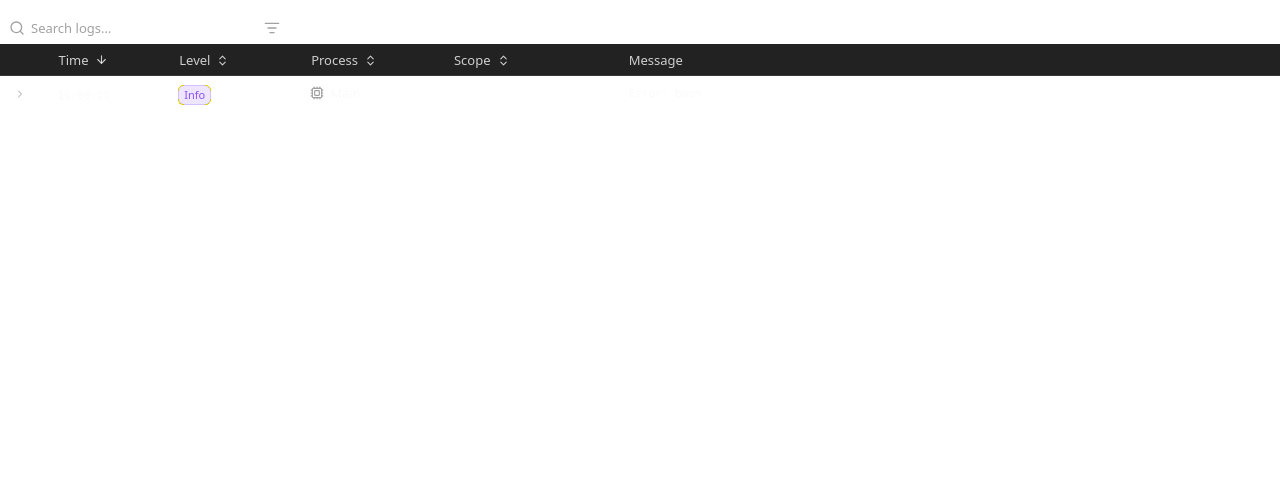
it: logs › a line opens under its row with its stack
Click the button named "Show details: Error: boom": (20, 94) [8,82,32,106]
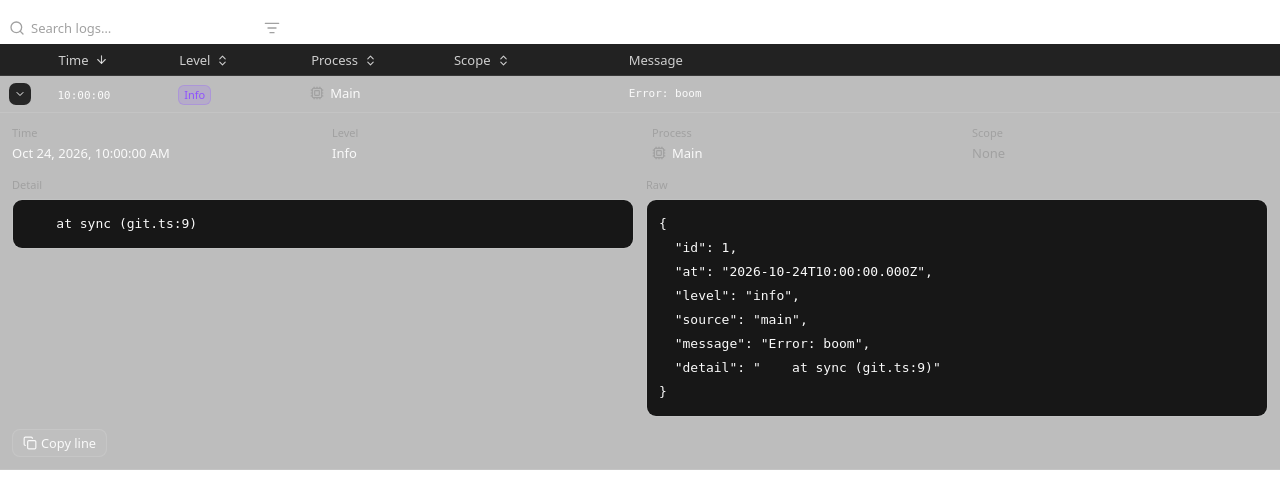
Check: the text "at sync (git.ts:9)" is shown, box [25,216,197,231]
